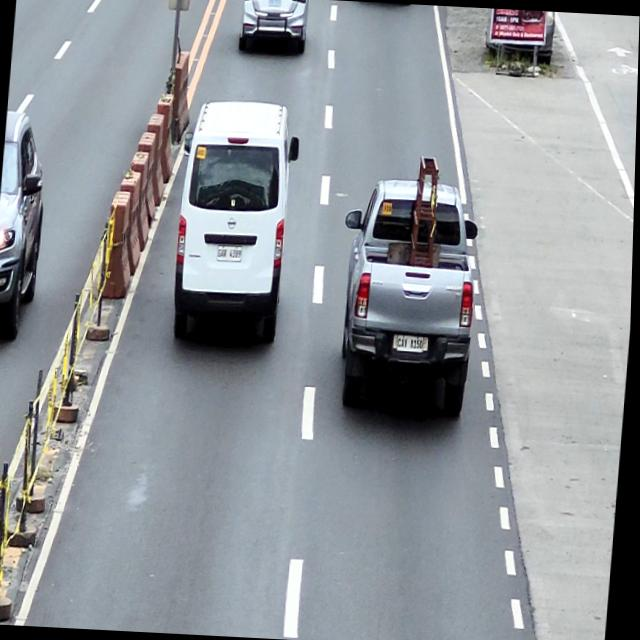Car: (331, 176, 486, 422), (169, 98, 305, 348), (0, 109, 50, 341), (237, 0, 309, 55)
License-Plate: (398, 335, 426, 353), (218, 246, 245, 263)
